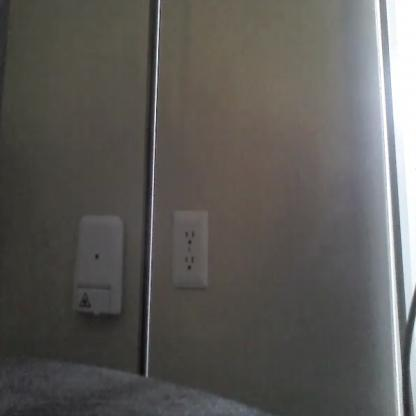OUTLET: (172, 210, 208, 288)
